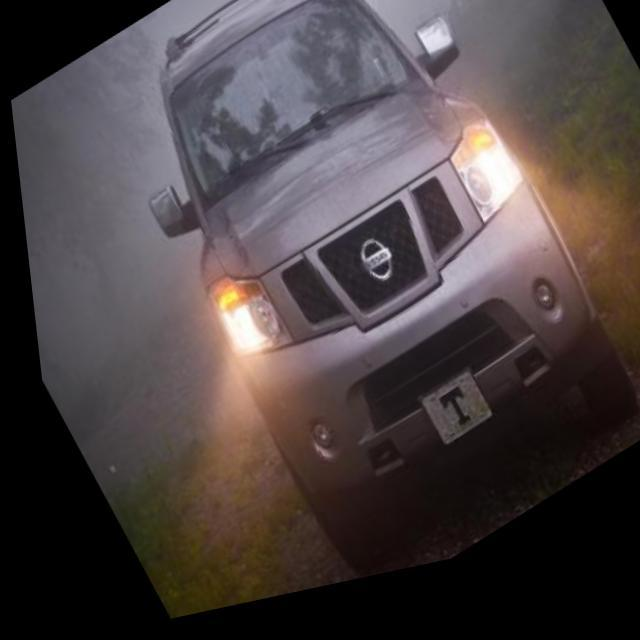license_plate: (403, 379, 487, 470)
